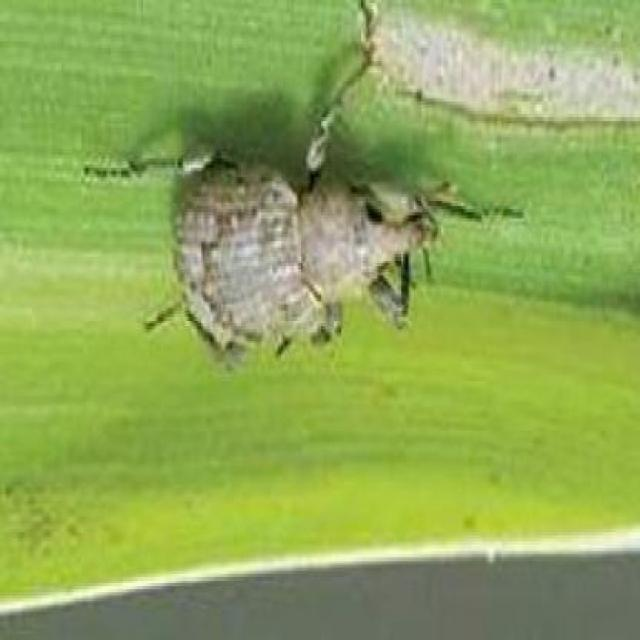rice-bug: (143, 63, 446, 362)
